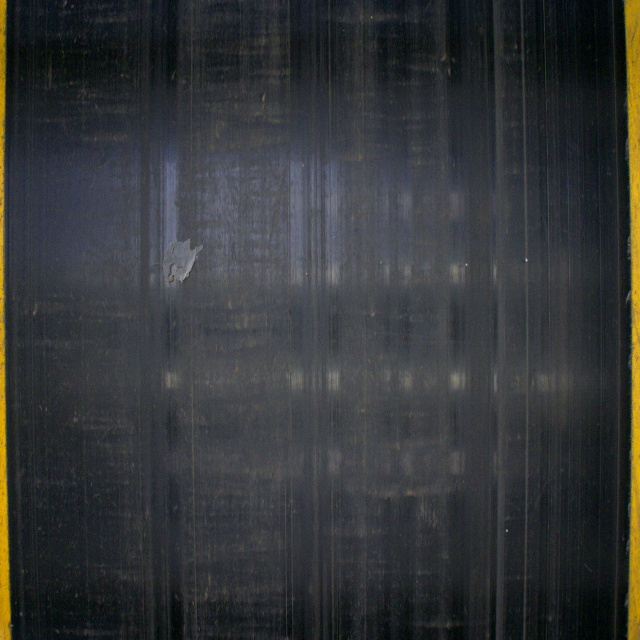Non_Foodgrade: (164, 236, 204, 288)
